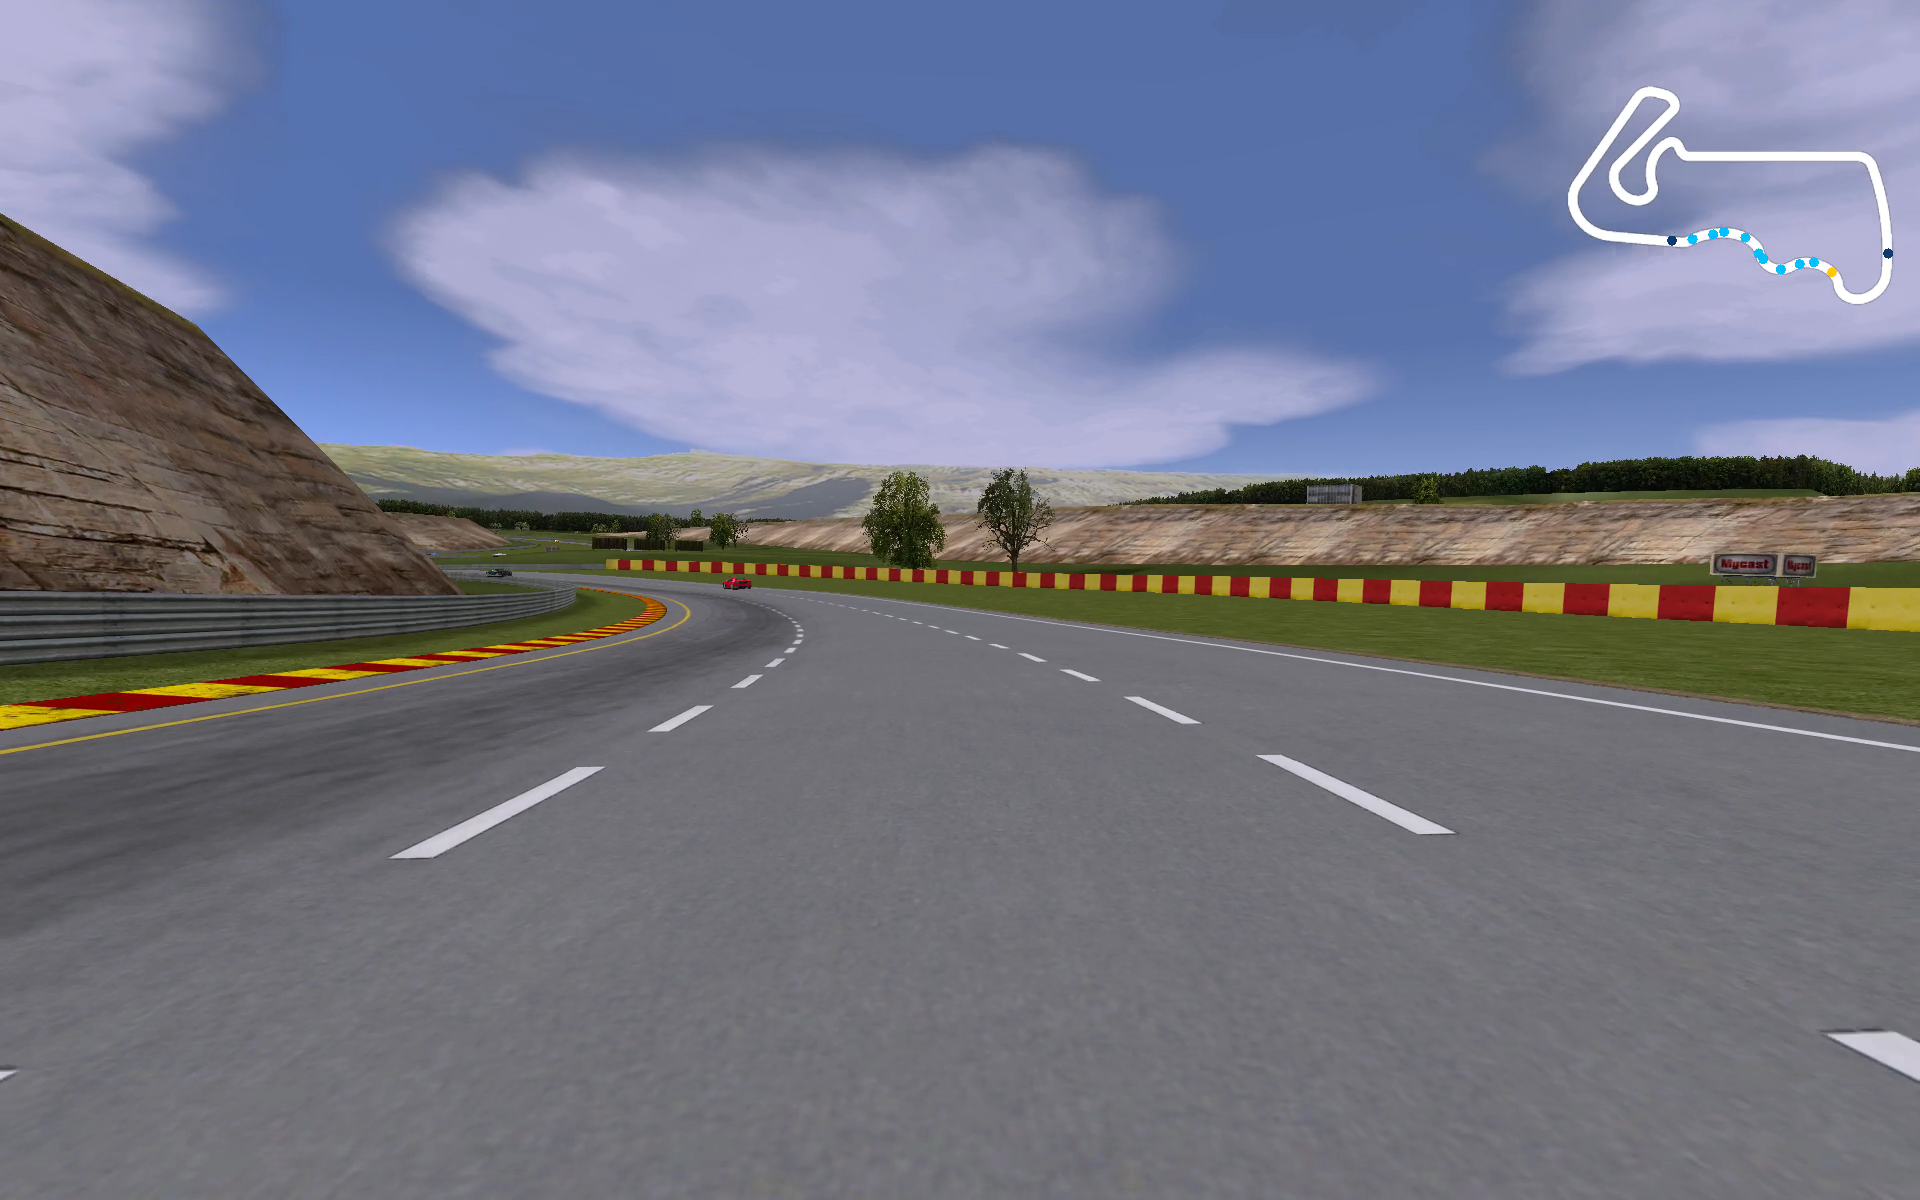car: (722, 572, 753, 594), (482, 563, 511, 578)
